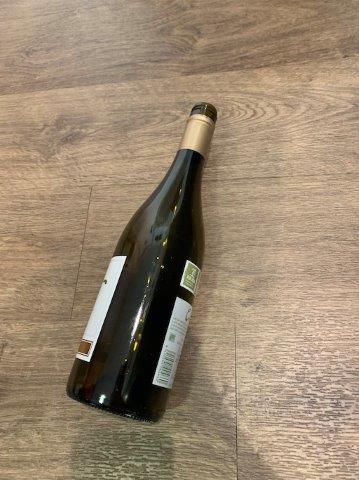botolkaca: (65, 102, 217, 422)
